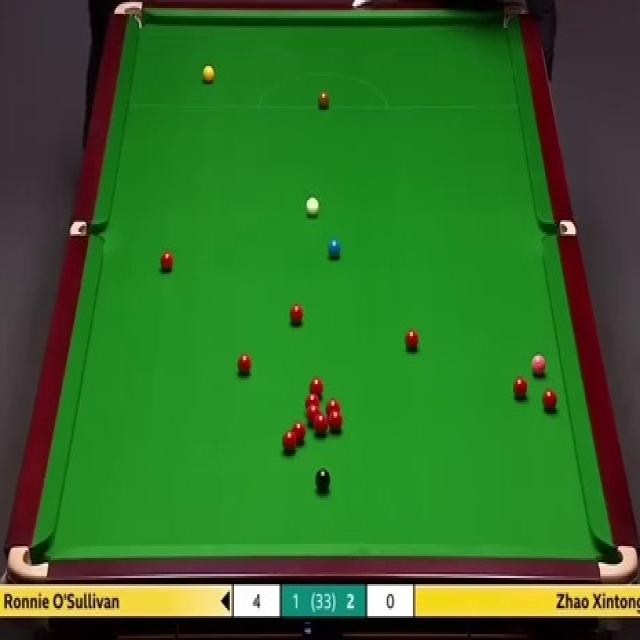pocket: (598, 536, 636, 584), (8, 545, 48, 580), (110, 0, 144, 29), (539, 218, 574, 238), (70, 223, 105, 239)
